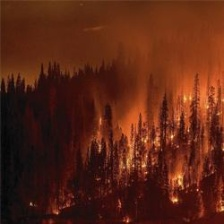fire: (99, 93, 224, 199)
